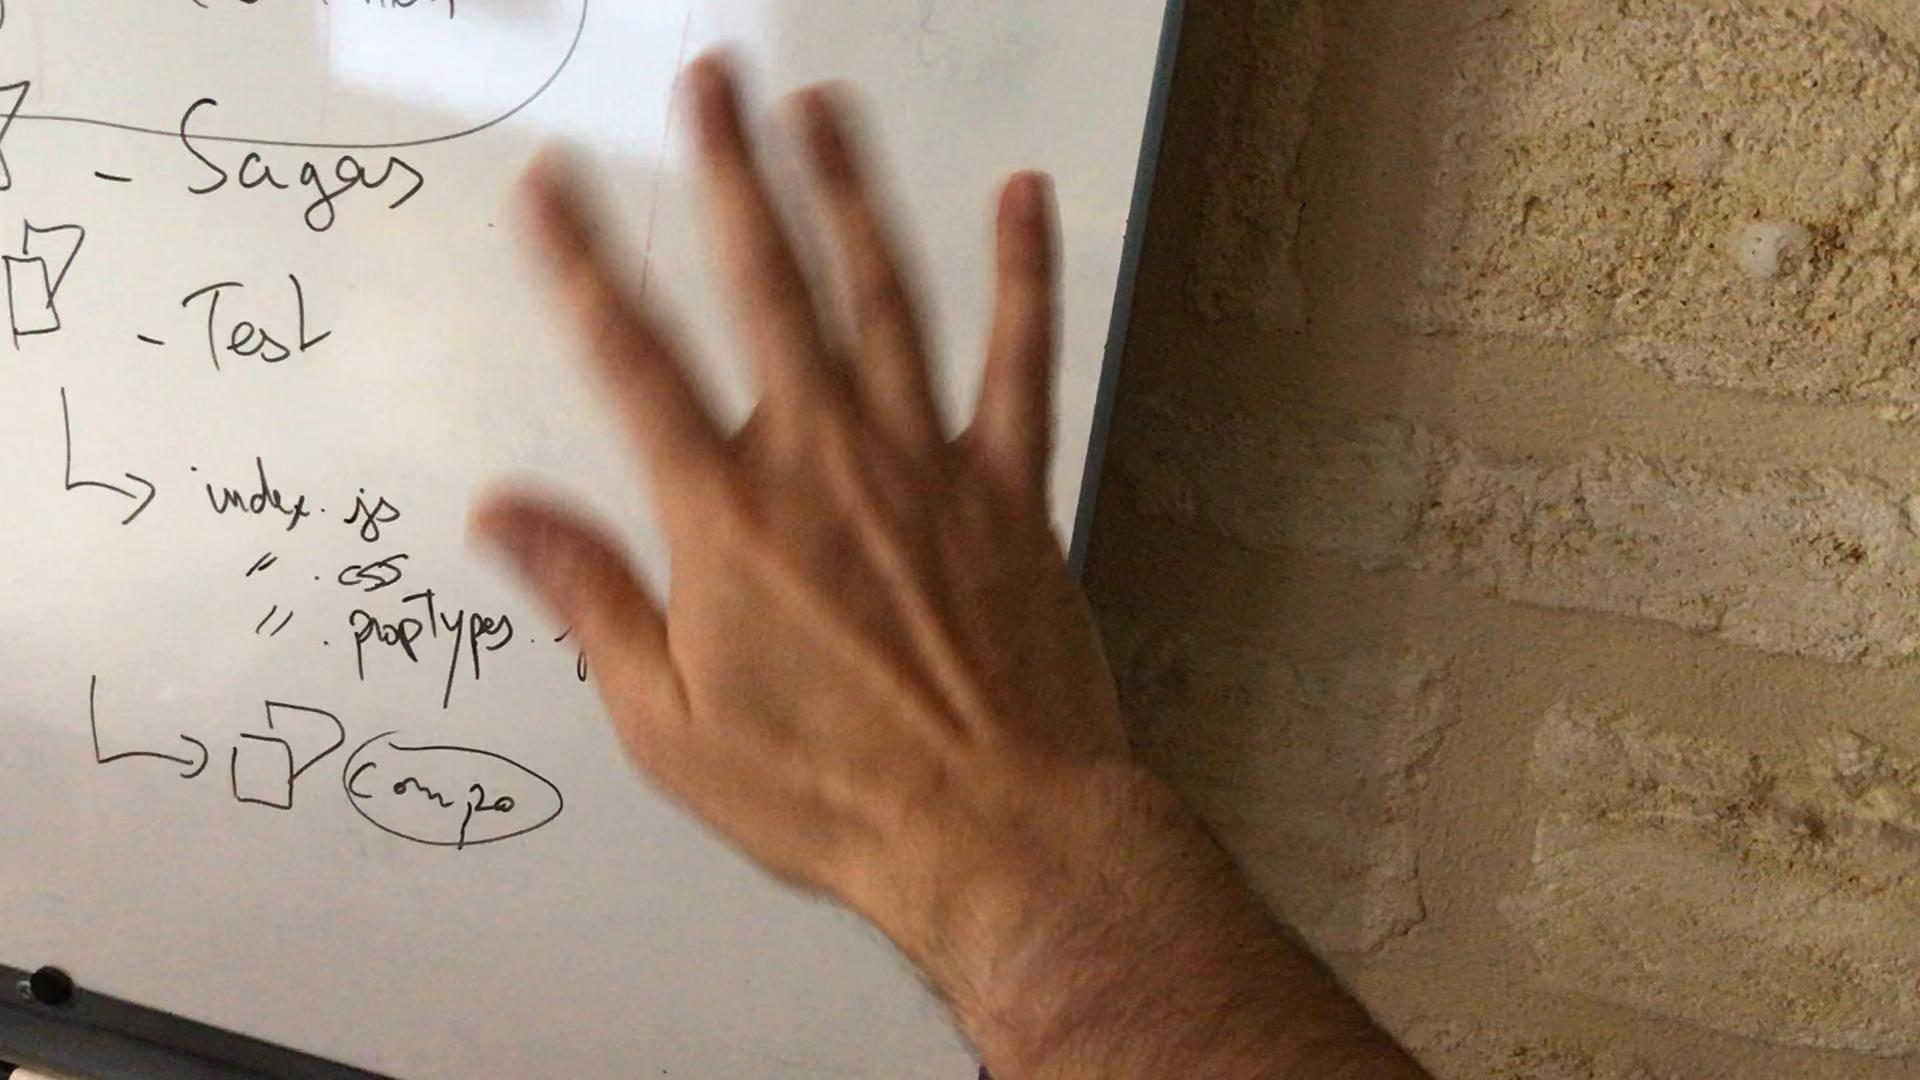hand: (472, 45, 1120, 864)
